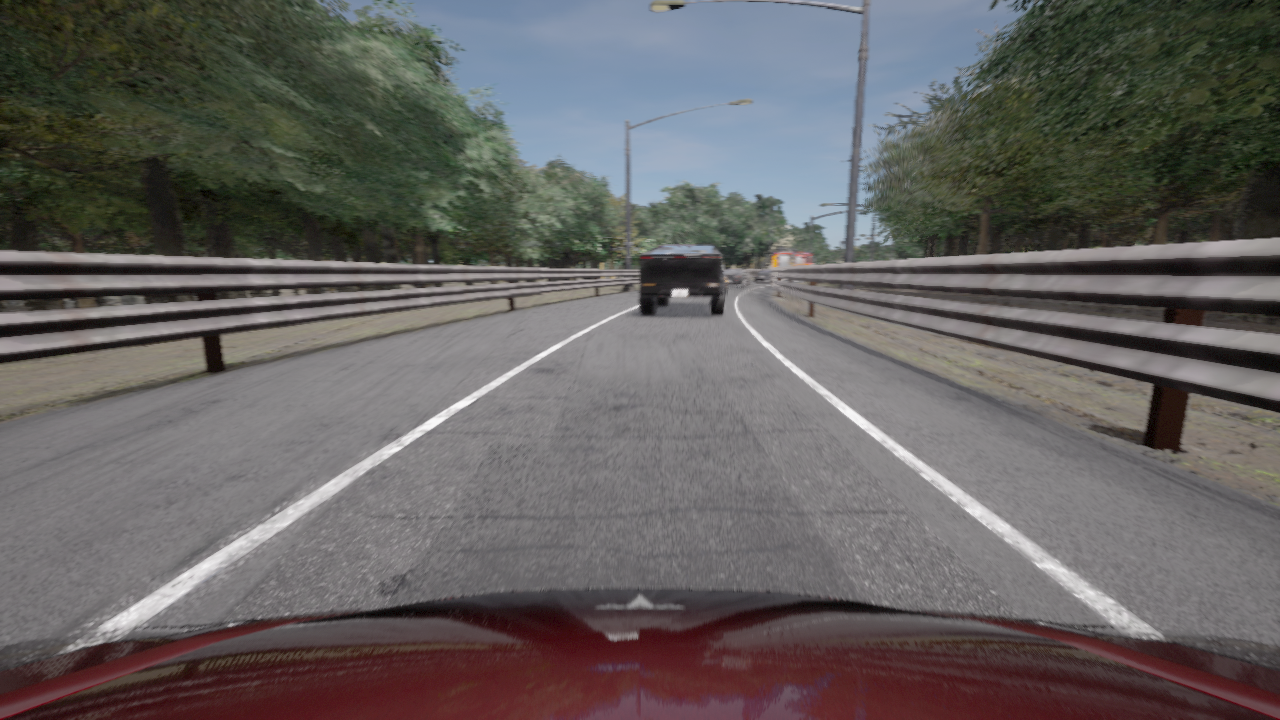cyclist: (0, 588, 1279, 719), (639, 244, 725, 315), (771, 248, 814, 268), (724, 268, 749, 287), (754, 269, 772, 282), (724, 274, 728, 293)
